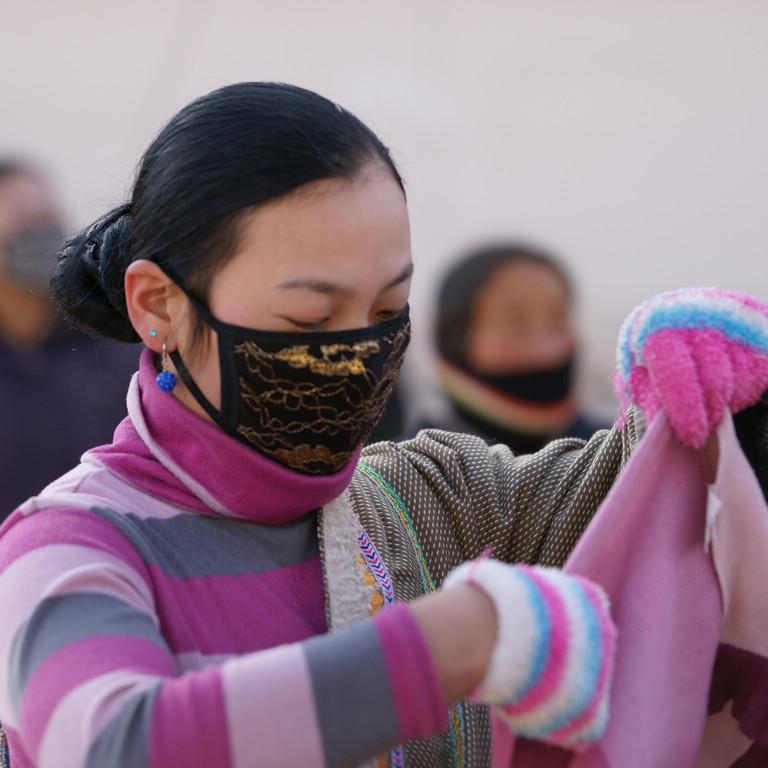OK: (186, 245, 411, 470)
WRONG: (471, 279, 578, 408)
